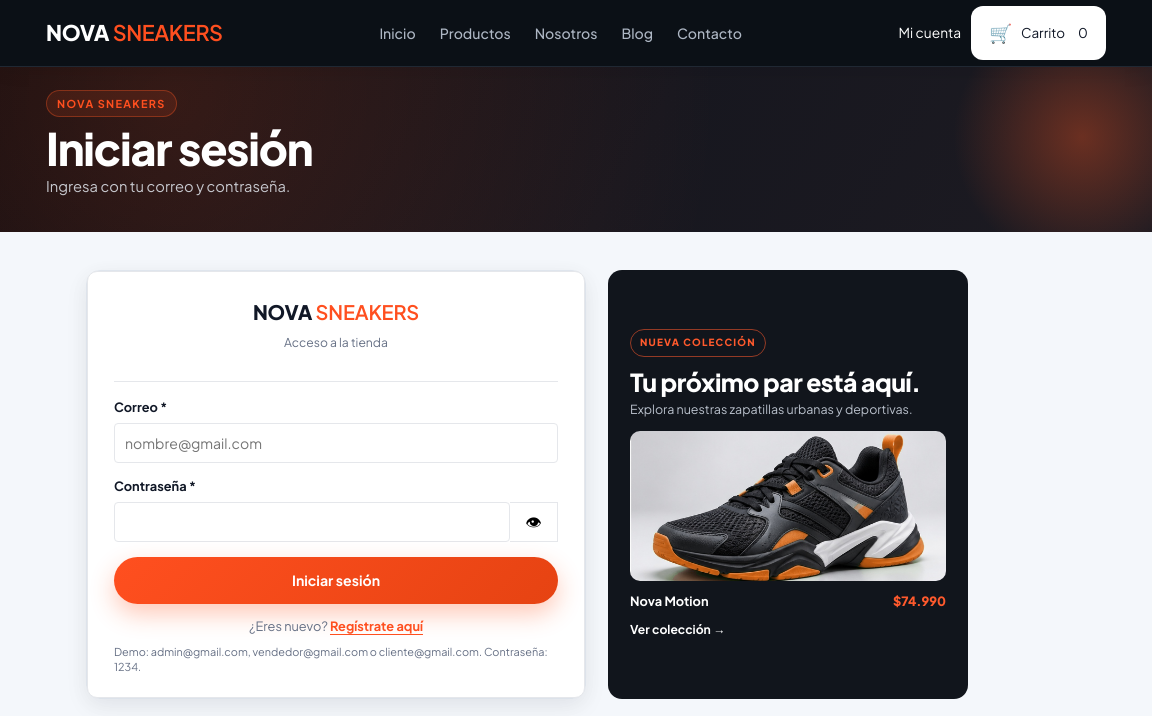
Test case: Flujos principales de Nova Sneakers › inicia sesión con una cuenta de demostración de la EA1
This screenshot has width=1152, height=716.
Step 1. Type "cliente@gmail.com" into the field labelled "Correo *" → (336, 443), box [114,423,558,463]
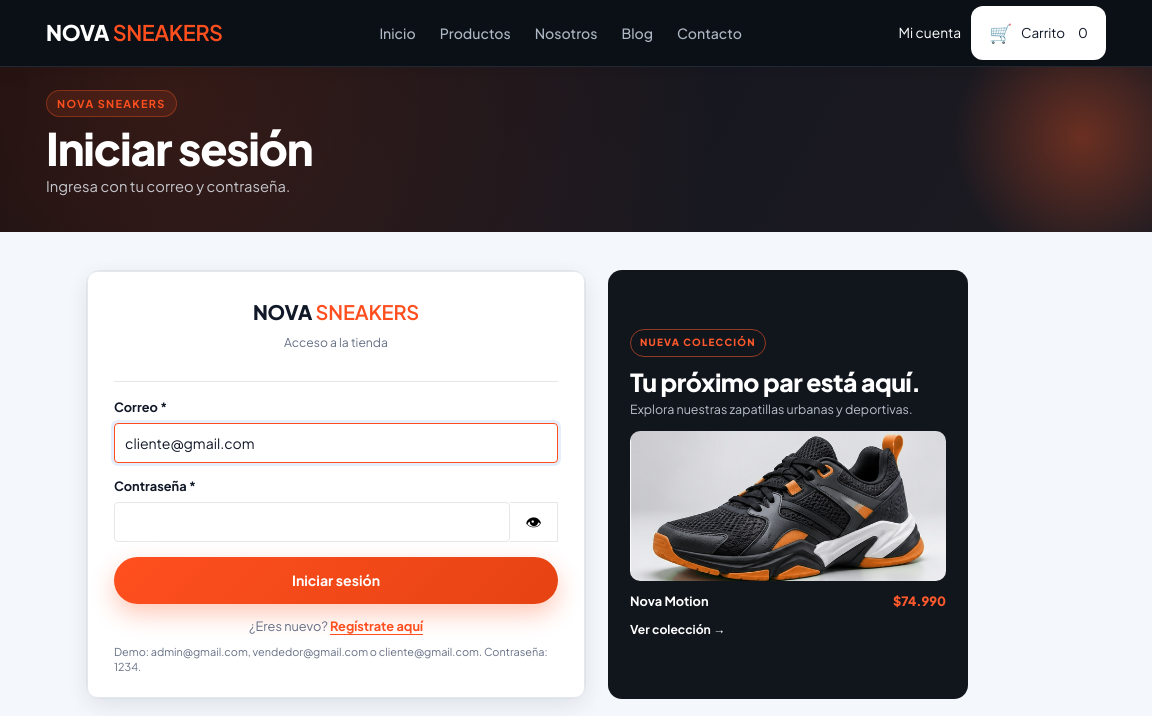
Step 2. Type "1234" into the password field labelled "Contraseña *" → (312, 522), box [114,502,510,542]
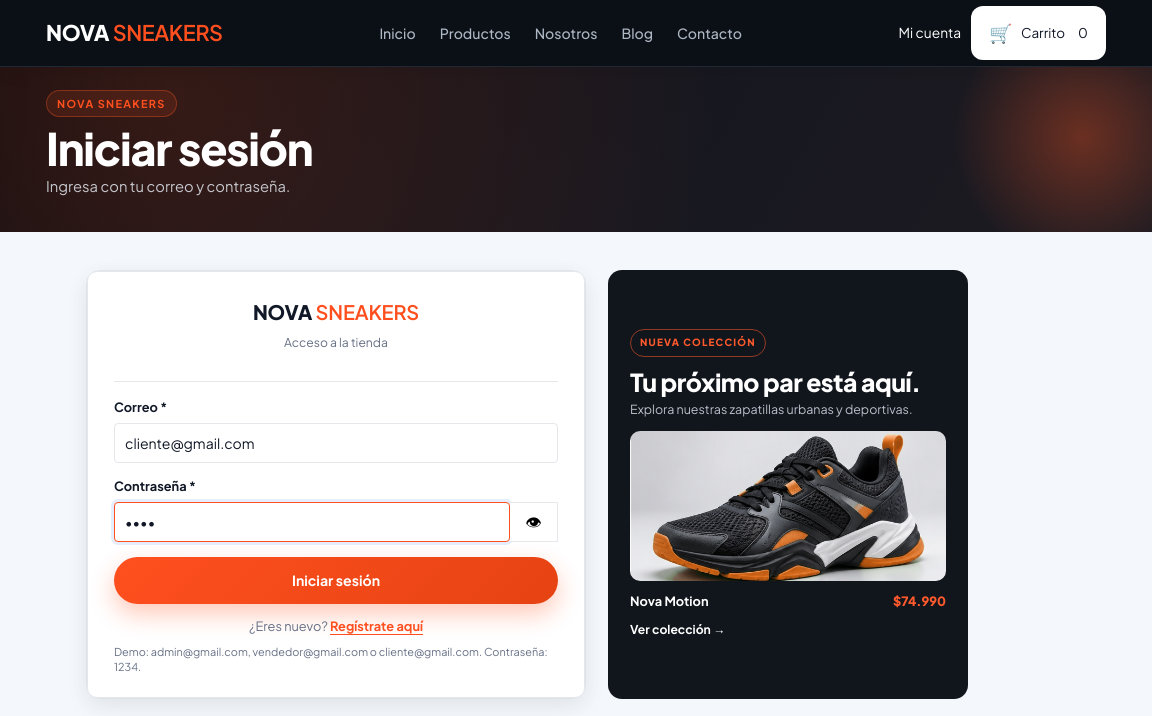
Step 3. Click the button "Iniciar sesión" → (336, 580), box [114,557,558,604]
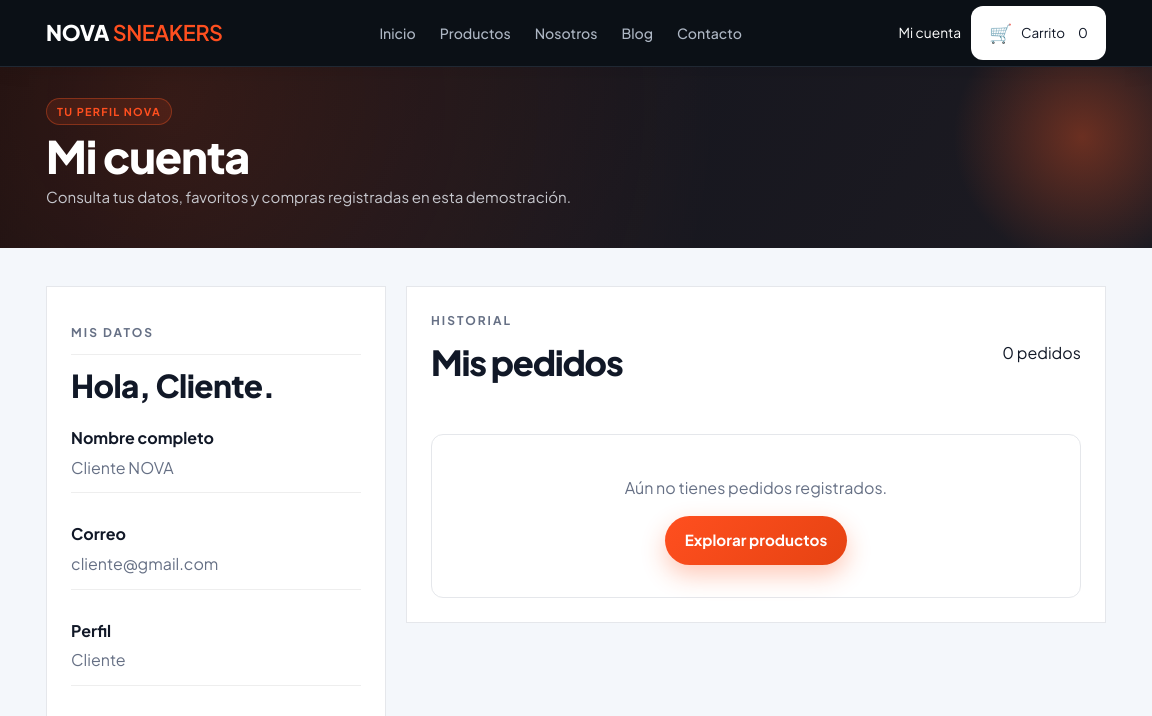
Result: the heading "Mi cuenta" is shown at [46,127,249,184]
Result: the heading "Hola, Cliente." is shown at [71,365,275,405]
